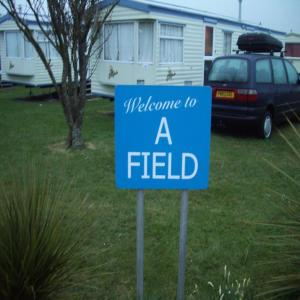Vehicle-registration-plate: (218, 91, 236, 100)
